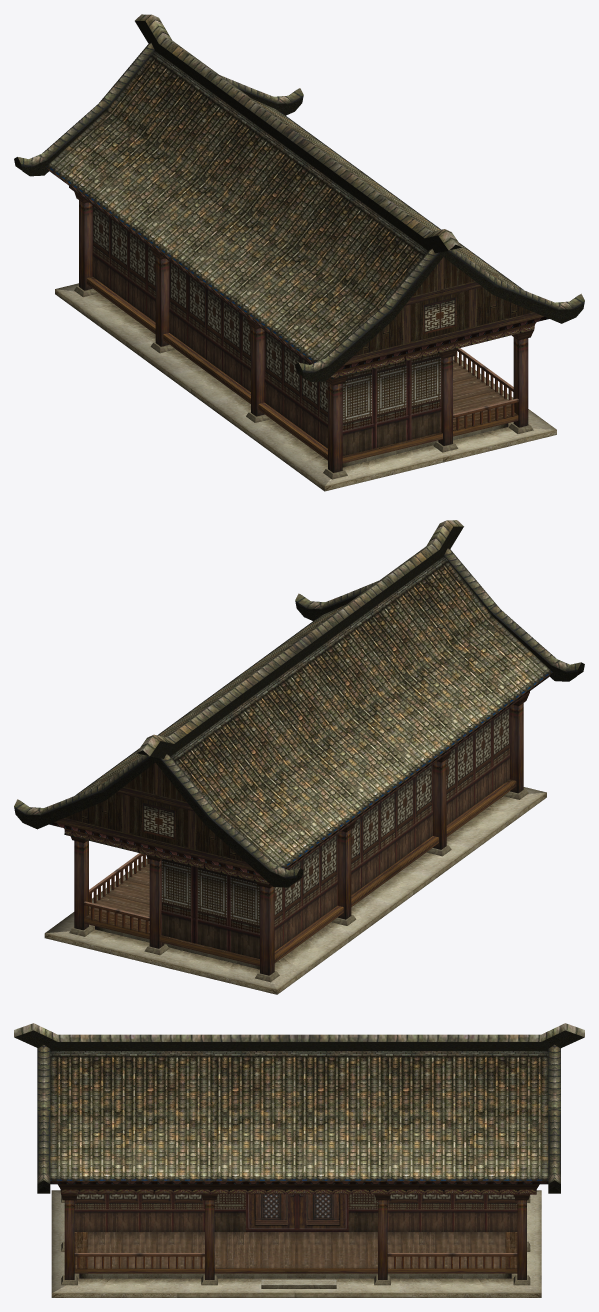
The model's file is b1-033-guesthouse-02.fbx.
3 views of the same model, one above another, from view 1: azimuth 30°, elevation 25°; view 2: azimuth 150°, elevation 25°; view 3: azimuth 270°, elevation 25° (orthographic). The views are drawn at different scales.
Visible parts, largest first — view 1: b1-033-guesthouse-01, b1-033-guesthouse-02; view 2: b1-033-guesthouse-01, b1-033-guesthouse-02; view 3: b1-033-guesthouse-01, b1-033-guesthouse-02.
Part boxes in pixels (<box>): b1-033-guesthouse-01: <box>14,14,584,479</box>; b1-033-guesthouse-02: <box>55,200,556,491</box>; b1-033-guesthouse-01: <box>14,520,584,982</box>; b1-033-guesthouse-02: <box>44,703,546,994</box>; b1-033-guesthouse-01: <box>14,1023,584,1288</box>; b1-033-guesthouse-02: <box>51,1184,541,1297</box>.
Bounding box in the file's own units: 14.1 × 11.57 × 27.14.
